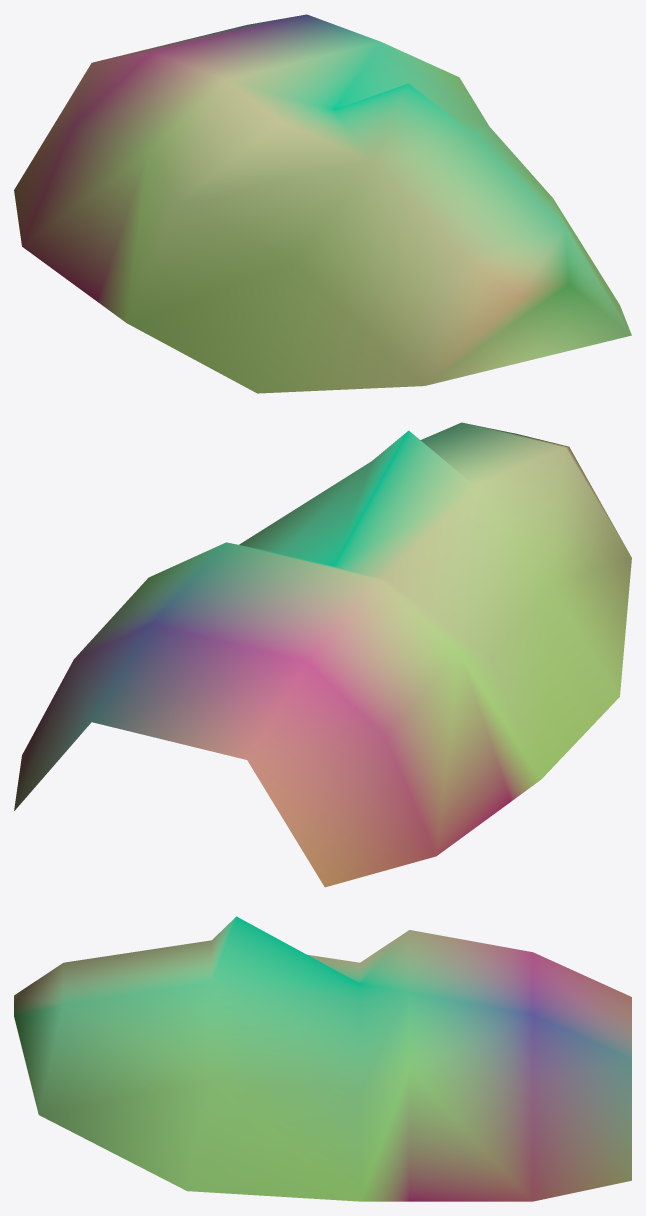
The picture shows the model from 3 angles, top to bottom: view 1: azimuth 30°, elevation 25°; view 2: azimuth 150°, elevation 25°; view 3: azimuth 270°, elevation 25°; orthographic projection. The views are drawn at different scales.
Parts seen in each view (by area): view 1: part; view 2: part; view 3: part.
Boxes of the visible parts, <box> form: part: <box>14,14,631,393</box>; part: <box>14,422,631,887</box>; part: <box>14,916,631,1201</box>.
Bounding box in the file's own units: 16 × 9 × 25.
